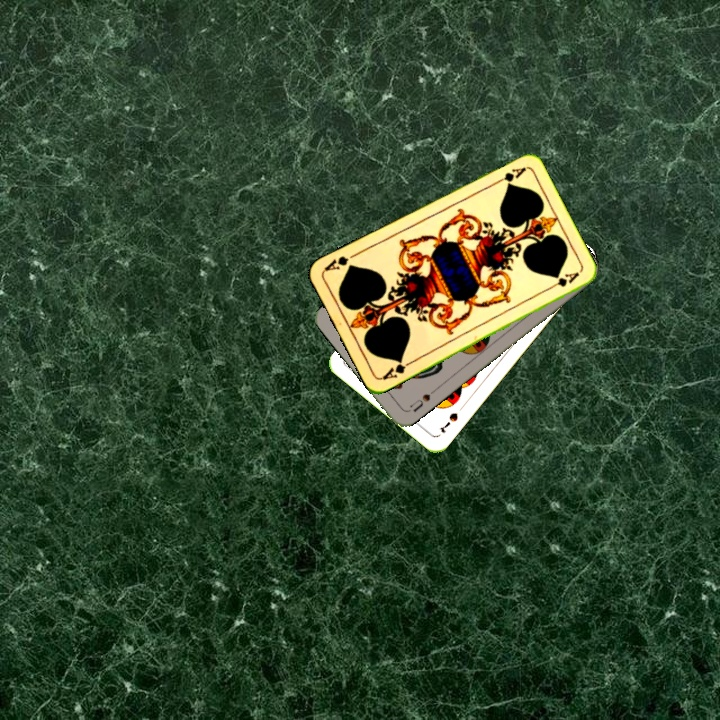GA: (378, 356, 416, 383), (490, 163, 528, 187)
S7: (436, 408, 461, 436)
SU: (405, 385, 438, 414)
